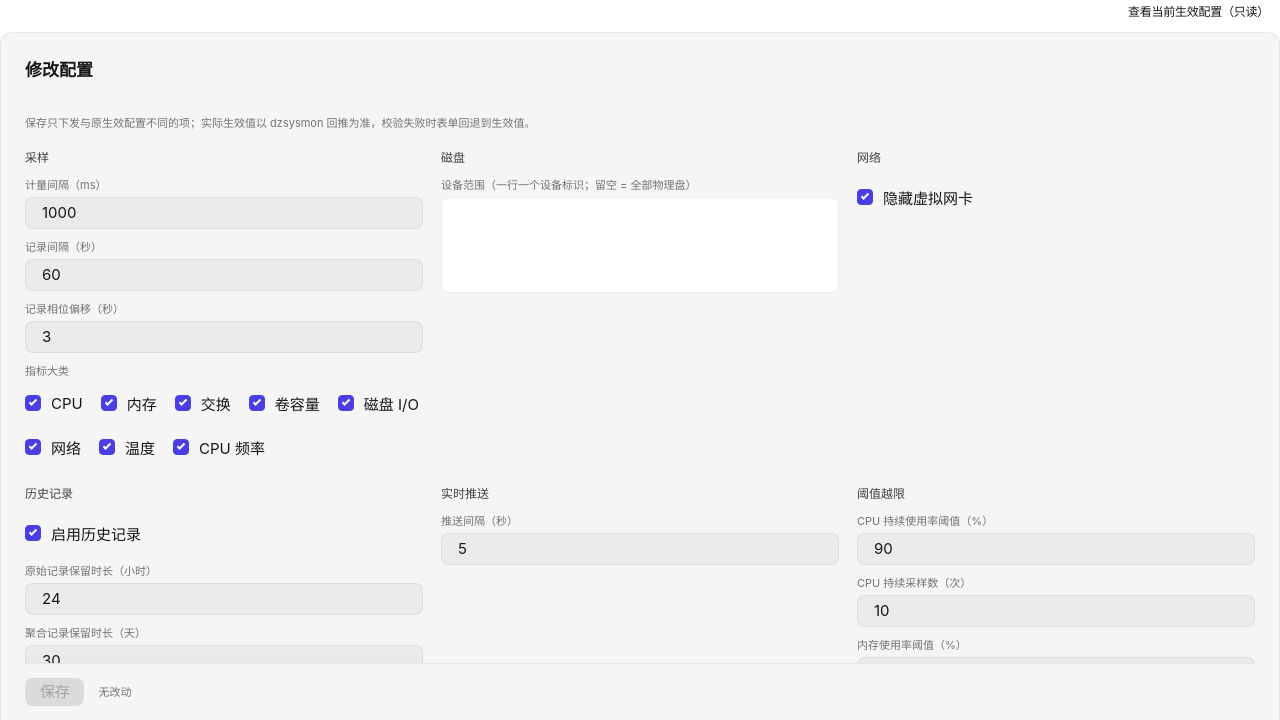
Test: SysmonConfigTab 生效配置展示（#81） › 空数组字段按契约语义展示（devices 全部物理盘），不留空值
Click the button with test id "sysmon-config-summary-toggle".
click(1198, 12)  # box x1=1117 y1=0 x2=1279 y2=24
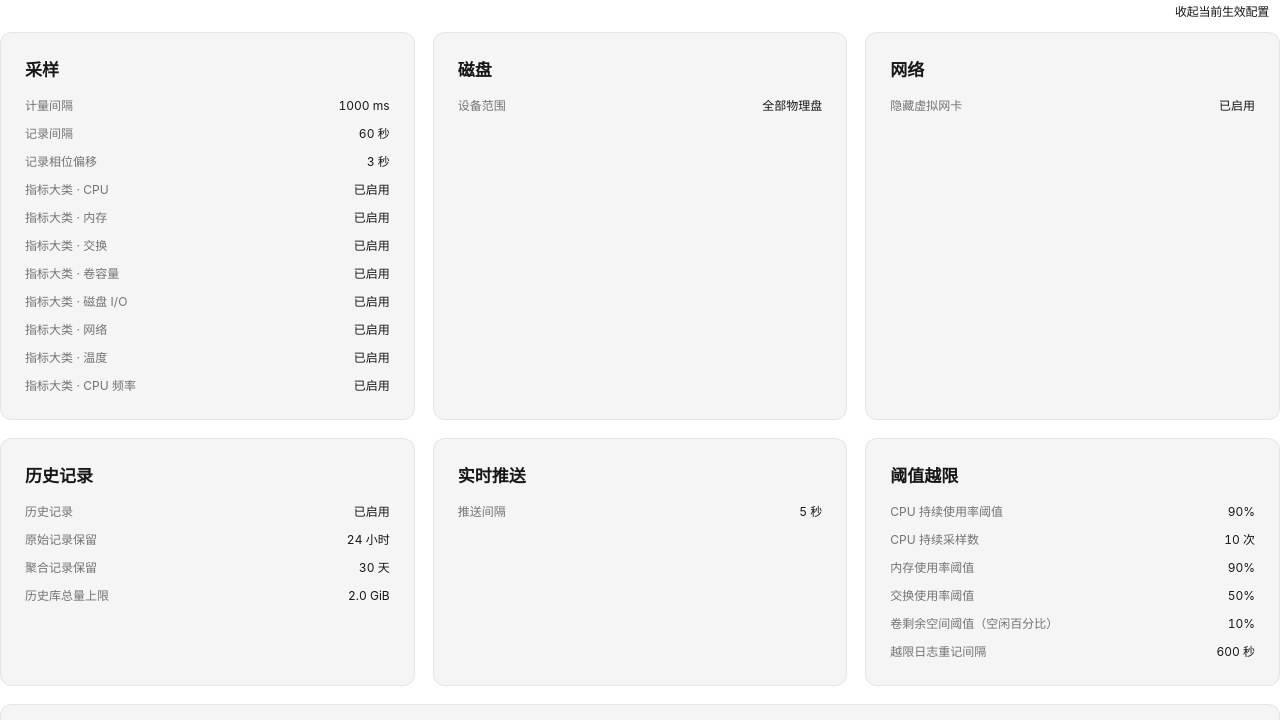
Result: the text with test id "sysmon-config-value-disk.devices" reads "全部物理盘" at x1=762 y1=98 x2=822 y2=113
